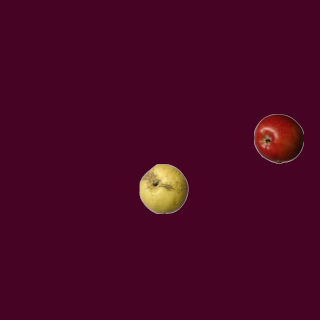Apple Braeburn: (253, 113, 303, 163)
Apple Golden 1: (138, 163, 188, 213)
